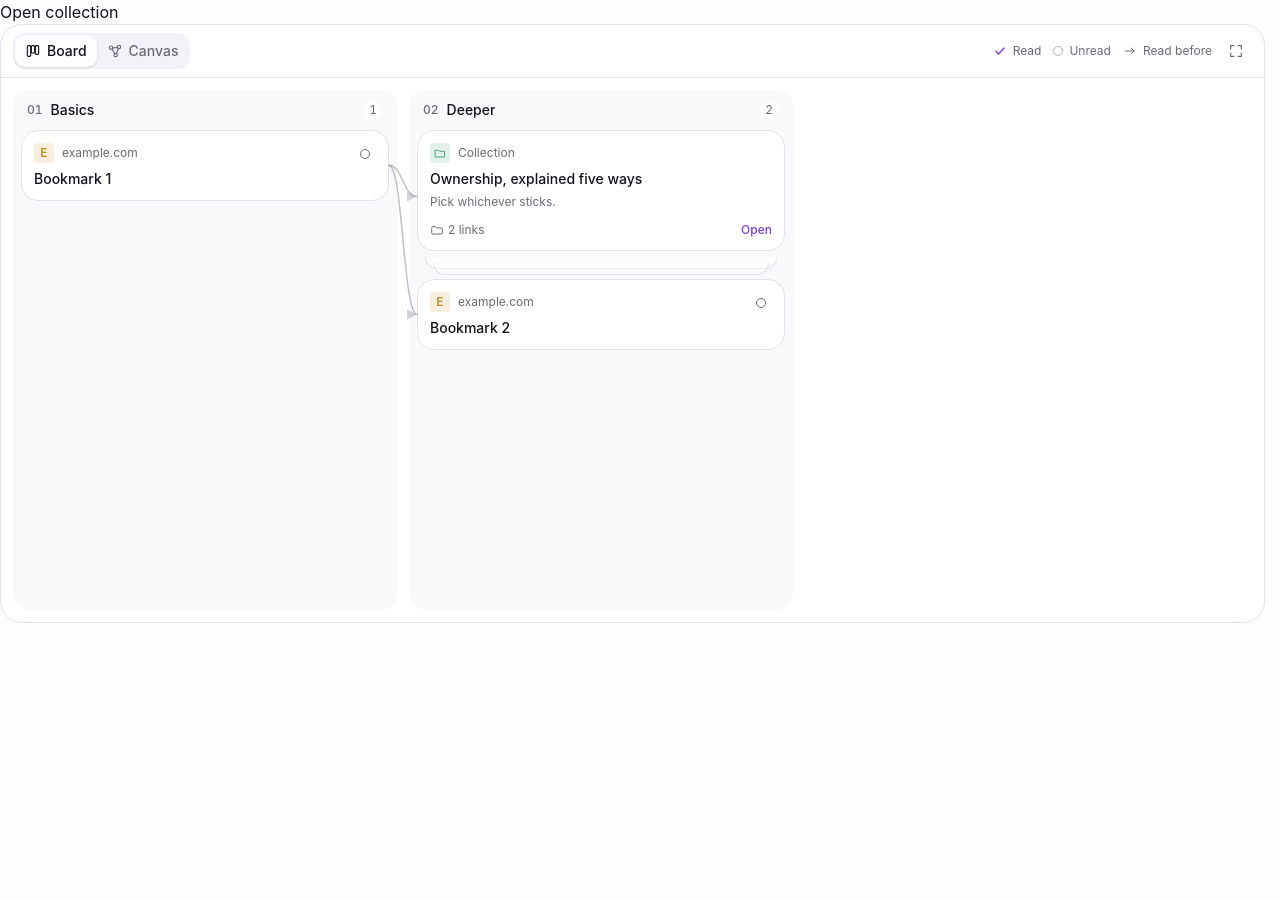
Test: CollectionSheet › opens a collection item as a labelled native modal dialog with its rows
The width and height of the screenshot is (1280, 900).
Click the button "Open collection" at (59, 12), box [0, 0, 118, 24]
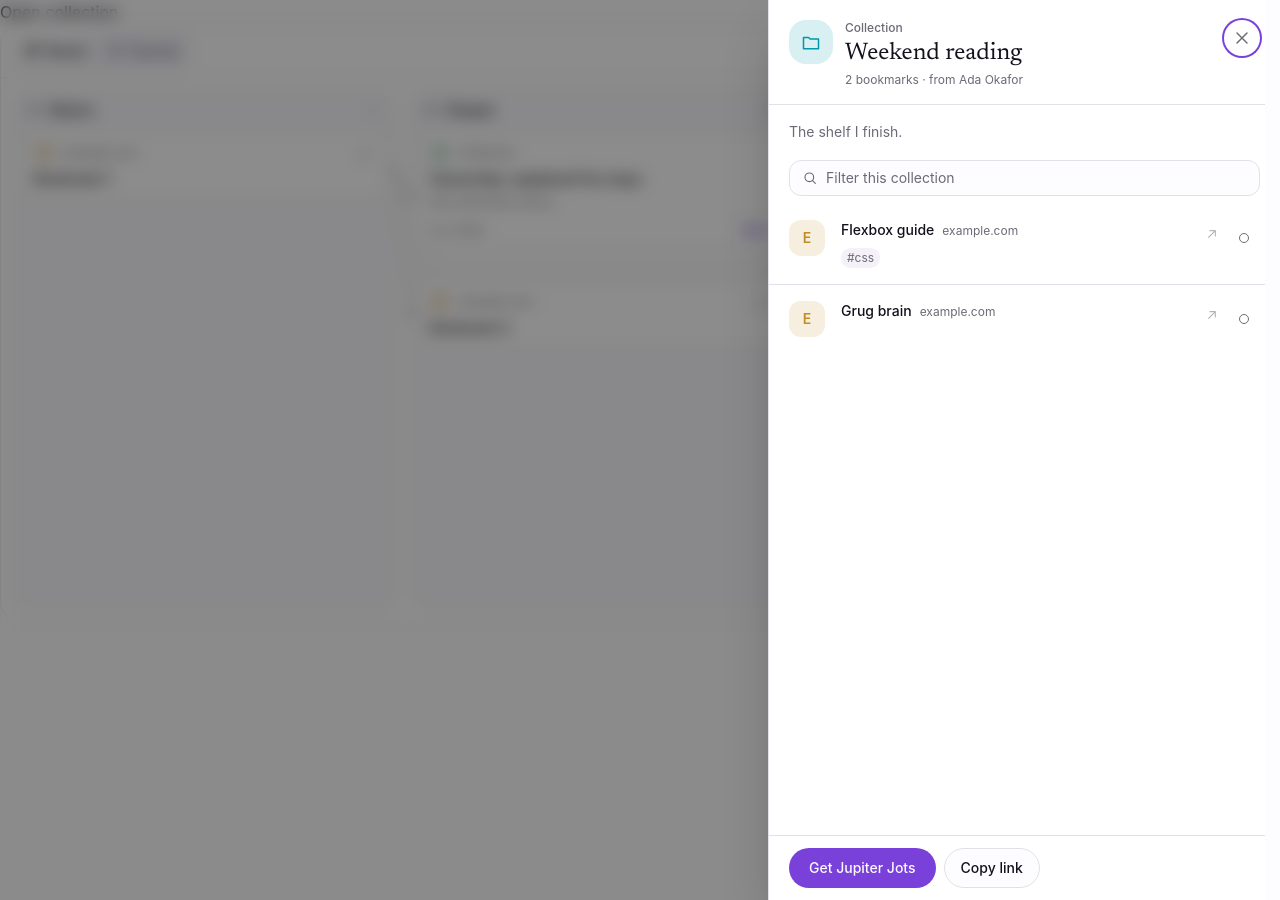
Check: the heading "Weekend reading" is shown, box [845, 41, 1022, 65]
Check: the dialog shows "2 bookmarks · from Ada Okafor", box [845, 72, 1023, 87]
